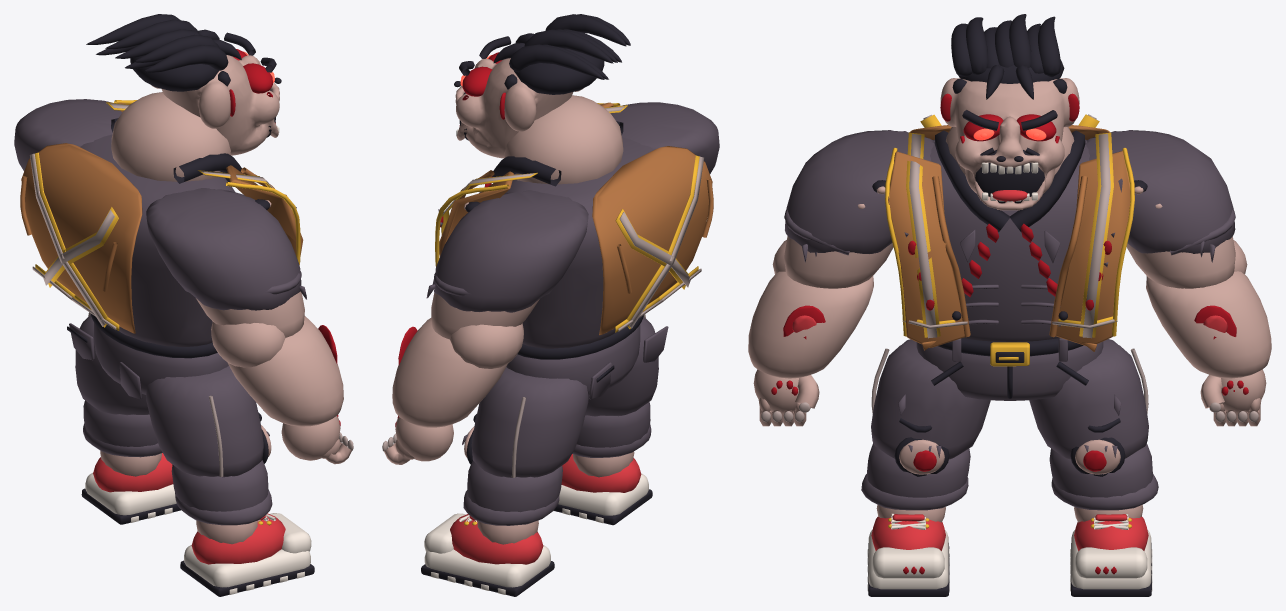
3 renders of one model, left to right at view 1: azimuth 30°, elevation 25°; view 2: azimuth 150°, elevation 25°; view 3: azimuth 270°, elevation 25°, orthographic. The views are drawn at different scales.
Parts seen in each view (by area): view 1: torso_surface, armR_surface, head_surface, legR_surface, foreArmR_surface, footR_surface, hip_surface, shinR_surface, footL_surface, armL_surface, shinL_surface, legL_surface (+1 smaller); view 2: torso_surface, armL_surface, head_surface, legL_surface, foreArmL_surface, footL_surface, hip_surface, shinL_surface, footR_surface, armR_surface, shinR_surface, legR_surface (+1 smaller); view 3: torso_surface, head_surface, armL_surface, armR_surface, legR_surface, legL_surface, foreArmL_surface, foreArmR_surface, hip_surface, footR_surface, footL_surface, shinR_surface (+3 smaller).
Part boxes in pixels (bbox=[...]): torso_surface: bbox=[20, 92, 303, 346]; armR_surface: bbox=[146, 188, 306, 337]; head_surface: bbox=[86, 14, 281, 155]; legR_surface: bbox=[146, 366, 271, 477]; foreArmR_surface: bbox=[211, 316, 343, 426]; footR_surface: bbox=[180, 513, 314, 596]; hip_surface: bbox=[67, 313, 228, 399]; shinR_surface: bbox=[171, 460, 272, 544]; footL_surface: bbox=[81, 453, 181, 524]; armL_surface: bbox=[14, 99, 122, 171]; shinL_surface: bbox=[83, 400, 162, 476]; legL_surface: bbox=[75, 312, 149, 415]; torso_surface: bbox=[435, 95, 713, 348]; armL_surface: bbox=[426, 190, 588, 339]; head_surface: bbox=[454, 14, 630, 158]; legL_surface: bbox=[462, 367, 588, 477]; foreArmL_surface: bbox=[392, 318, 523, 427]; footL_surface: bbox=[421, 513, 554, 596]; hip_surface: bbox=[506, 315, 668, 399]; shinL_surface: bbox=[463, 461, 562, 544]; footR_surface: bbox=[553, 454, 652, 525]; armR_surface: bbox=[610, 102, 719, 173]; shinR_surface: bbox=[572, 402, 651, 477]; legR_surface: bbox=[585, 314, 658, 416]; torso_surface: bbox=[885, 114, 1134, 351]; head_surface: bbox=[940, 14, 1079, 210]; armL_surface: bbox=[1085, 130, 1235, 288]; armR_surface: bbox=[784, 130, 934, 288]; legR_surface: bbox=[871, 339, 990, 476]; legL_surface: bbox=[1029, 339, 1148, 476]; foreArmL_surface: bbox=[1146, 240, 1271, 378]; foreArmR_surface: bbox=[748, 240, 873, 378]; hip_surface: bbox=[916, 337, 1103, 400]; footR_surface: bbox=[867, 513, 949, 596]; footL_surface: bbox=[1070, 514, 1152, 596]; shinR_surface: bbox=[861, 443, 970, 522].
Size of what is drawn, in the model's own units: 0.956 by 2.2 by 1.96.
